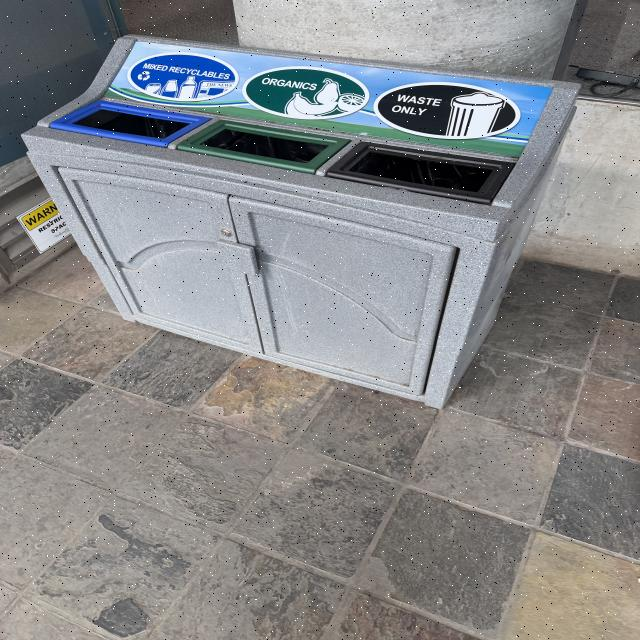Dustbin: (18, 33, 580, 411)
